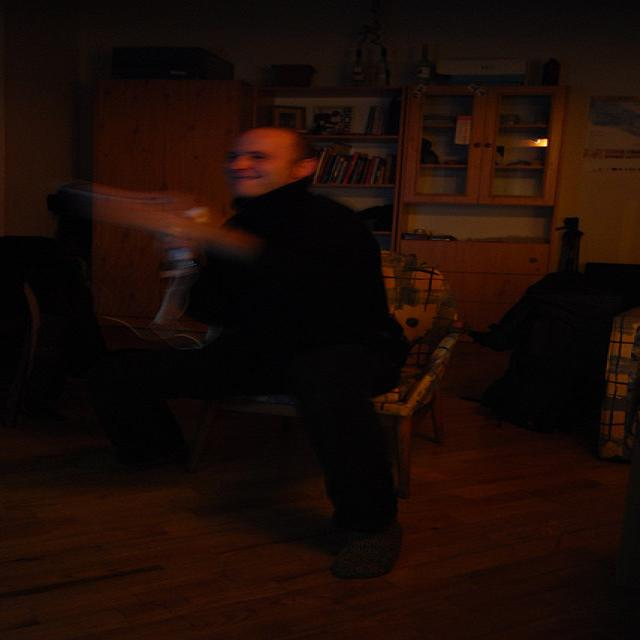People: (189, 115, 399, 615)
chair: (100, 230, 543, 465)
